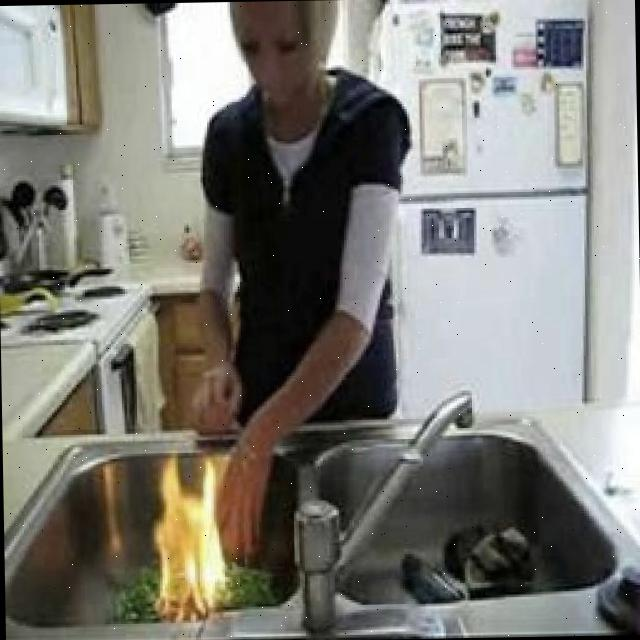fire: (156, 464, 227, 609)
